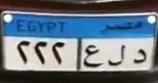2: (51, 39, 68, 67), (33, 40, 50, 67), (16, 39, 31, 67)
ain: (83, 44, 104, 70)
daal: (131, 46, 148, 68)
laam: (106, 42, 126, 70)
